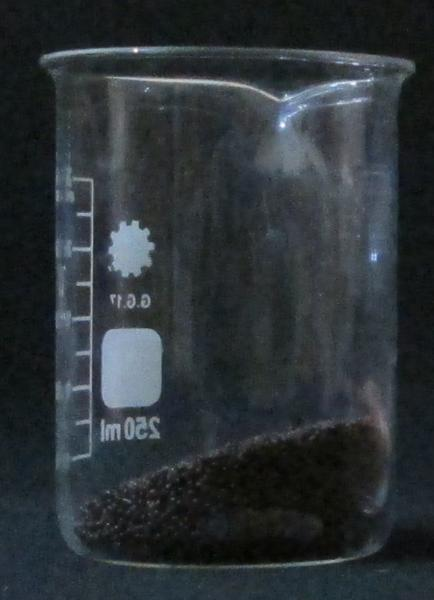Beaker: (36, 46, 416, 567)
